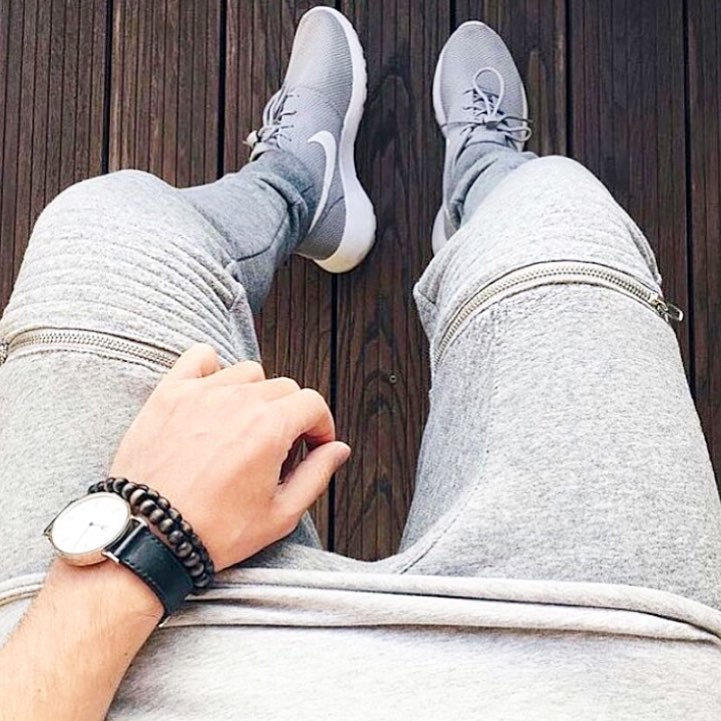sneaker: (238, 1, 390, 297), (422, 1, 546, 282)
